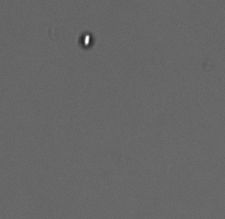Living Cell: (76, 31, 97, 49)
